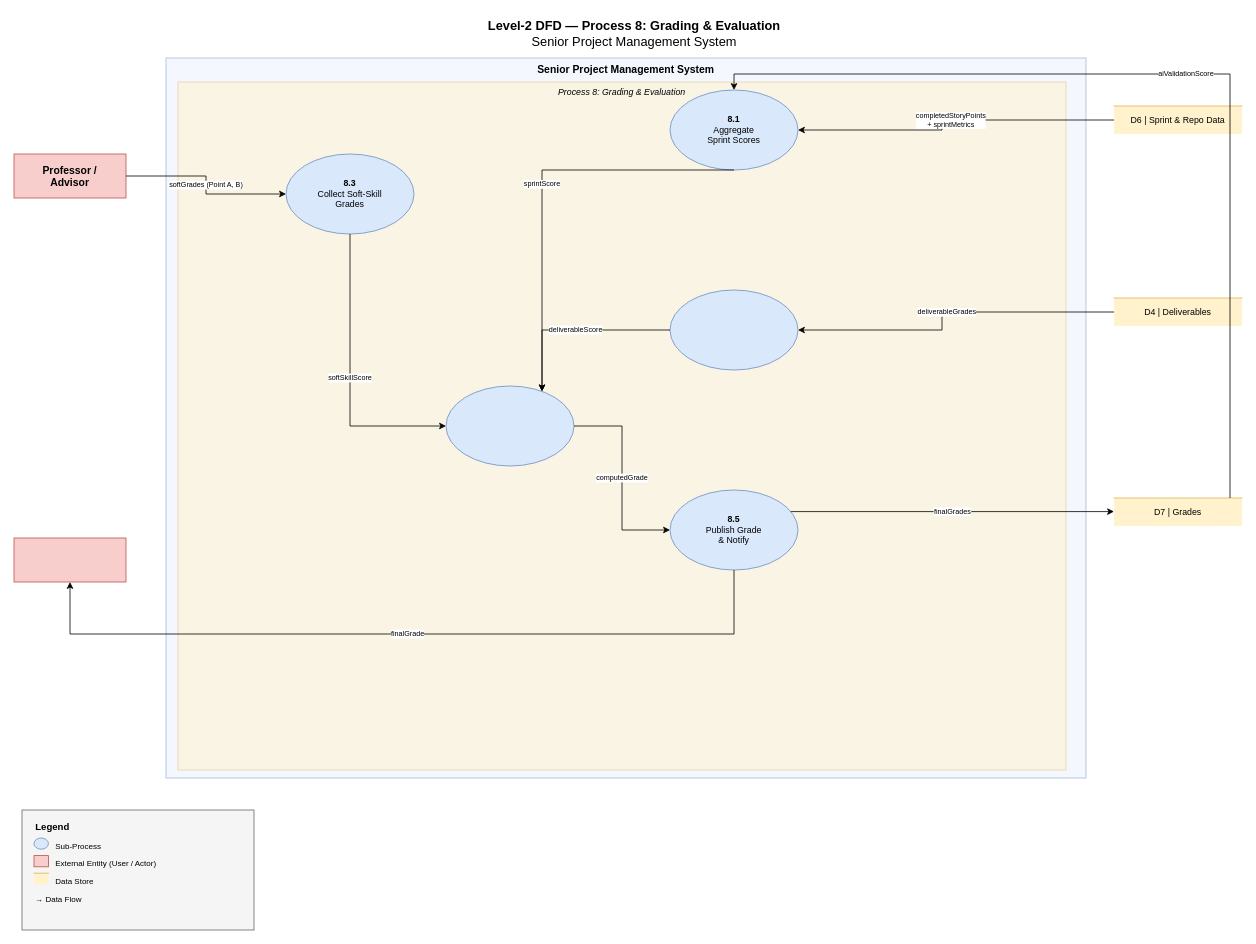
This 1256x944 diagram has some shape labels left out. The shapes that lost their labels are listed below. From the top down, each one's centre as x and y in pixels, then its label:
At (x=733, y=329): "8.2 Aggregate Deliverable Scores".
At (x=509, y=425): "8.4 Compute Final Grade".
At (x=69, y=559): "Student".
